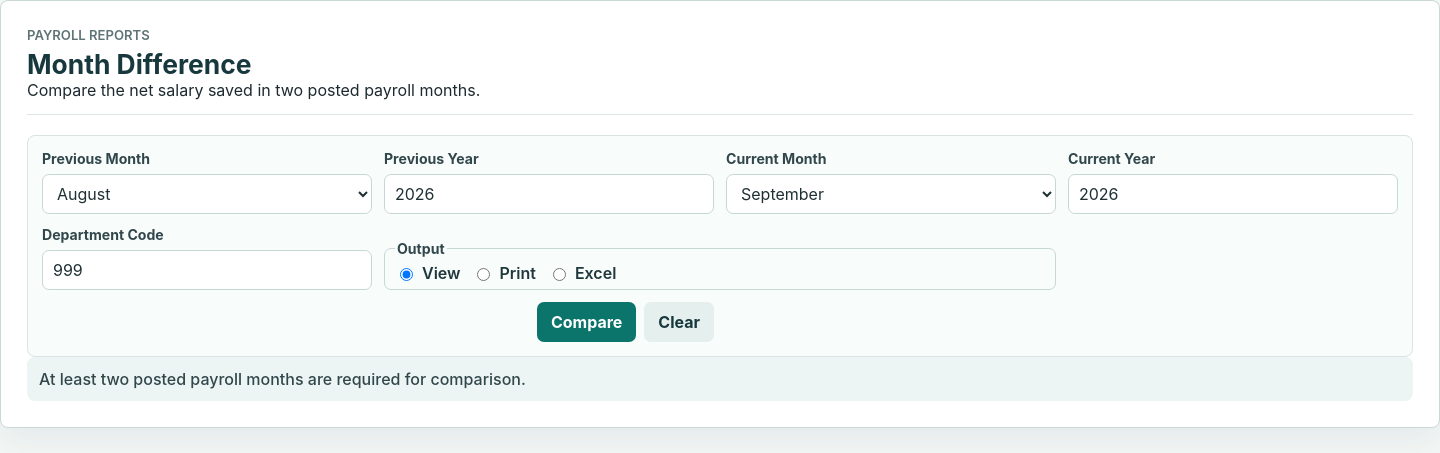
Scenario: Month Difference user flow › explains that both months must be posted instead of showing a false difference
Select "July" in the dropdown labelled "Previous Month" at (207, 194), box [42, 174, 372, 214]
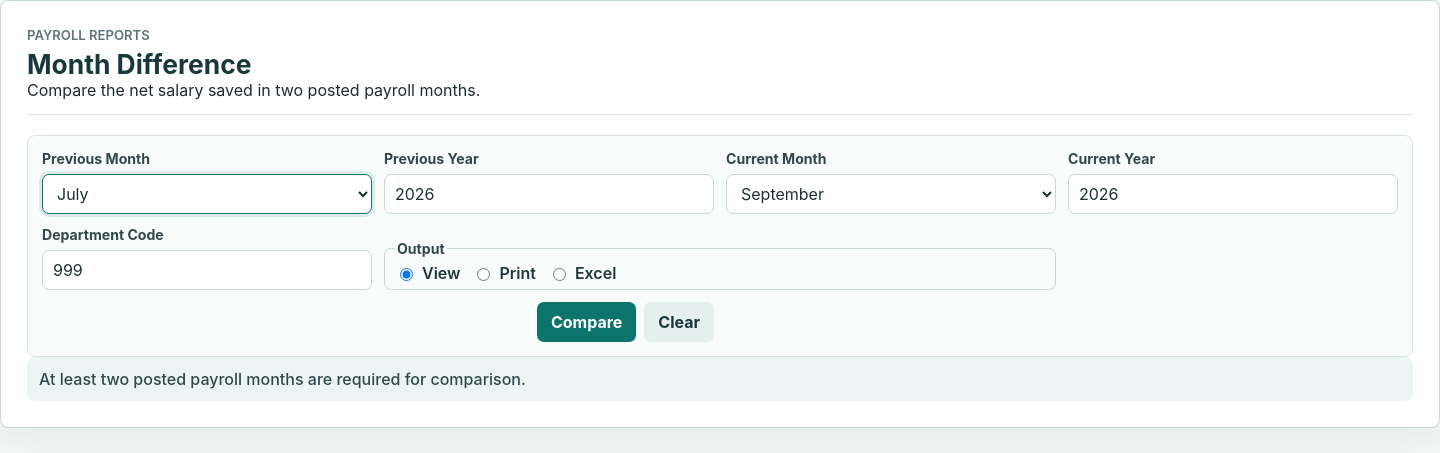
Select "August" in the dropdown labelled "Current Month" at (891, 194), box [726, 174, 1056, 214]
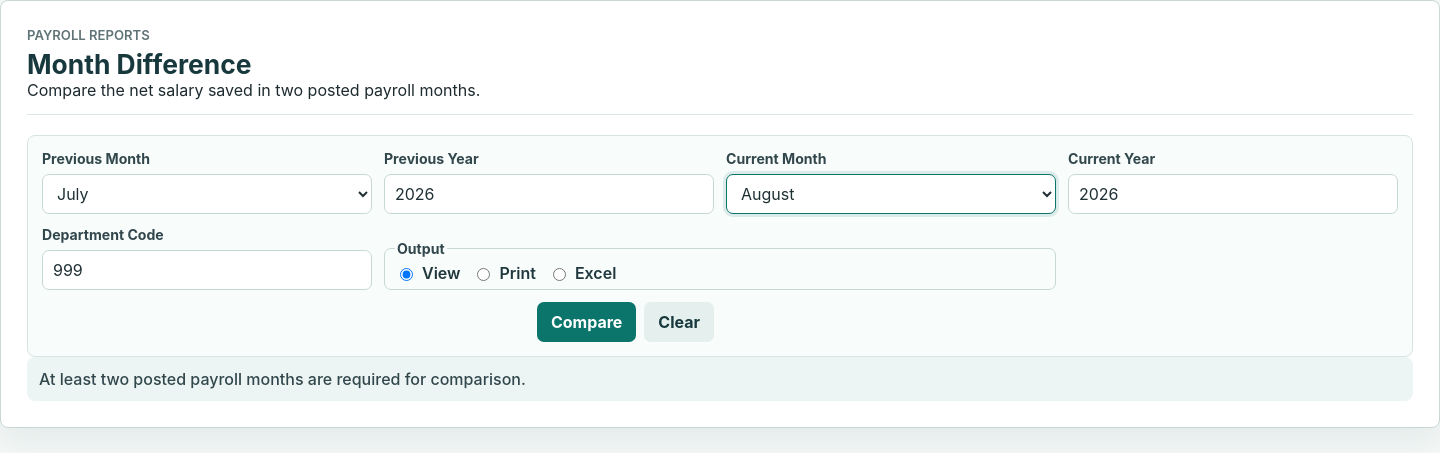
Click the button "Compare" at (587, 322), box [537, 302, 636, 342]
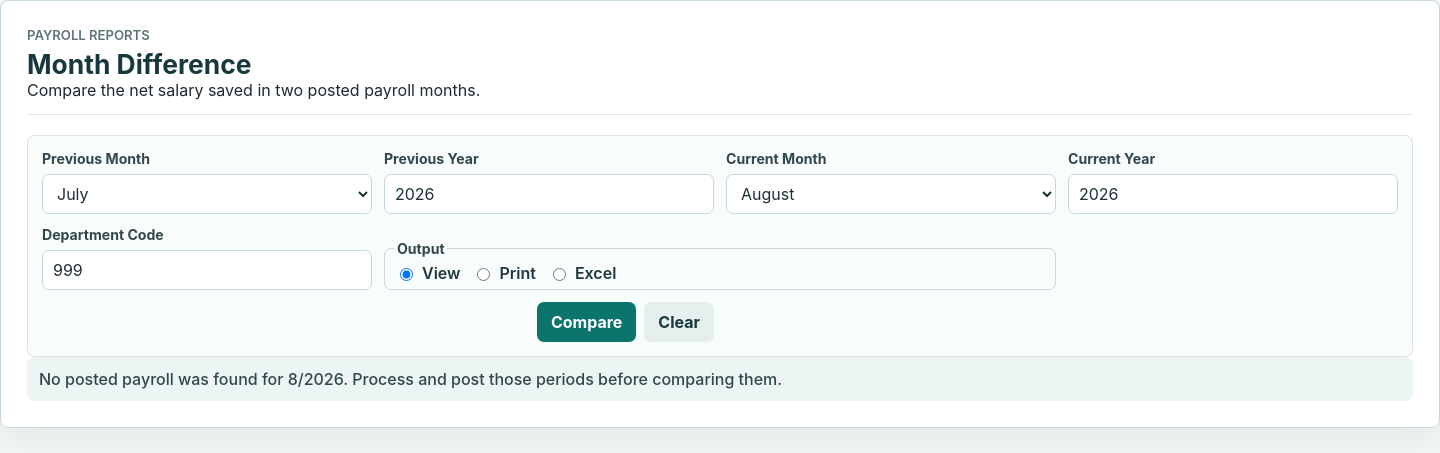
Now the text "No posted payroll was found" shows "8/", box [27, 357, 1413, 401]
